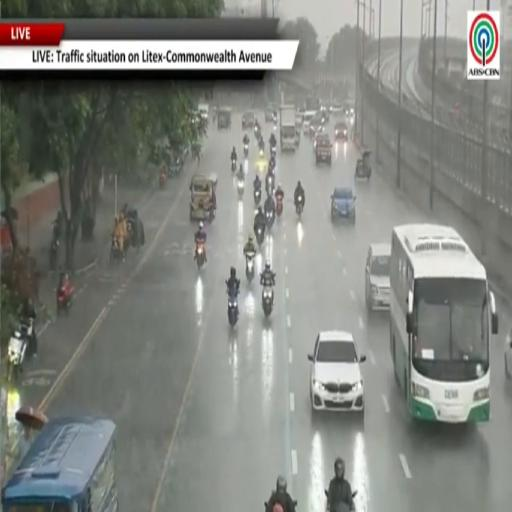bus: (390, 224, 498, 423), (2, 419, 118, 511)
car: (308, 331, 365, 412), (366, 244, 390, 311), (331, 187, 356, 223), (315, 135, 332, 165), (312, 126, 328, 151), (505, 328, 511, 379), (303, 111, 315, 136), (310, 117, 324, 138), (242, 111, 255, 130), (335, 122, 348, 140), (330, 104, 344, 116), (319, 106, 329, 122), (265, 108, 276, 122)
jeepney: (190, 174, 217, 220), (217, 107, 231, 130)
motorcycle: (8, 330, 28, 381), (56, 282, 74, 316), (228, 291, 238, 326), (262, 286, 273, 317), (49, 236, 59, 270), (110, 236, 123, 262), (246, 253, 255, 282), (195, 243, 205, 269), (236, 178, 245, 200), (265, 211, 275, 230), (255, 226, 264, 246), (266, 175, 274, 195), (333, 504, 354, 511), (296, 197, 303, 218), (159, 171, 167, 188), (276, 197, 282, 217), (254, 189, 261, 206), (258, 136, 264, 151), (254, 125, 260, 139), (270, 146, 276, 157), (232, 159, 237, 172), (244, 143, 248, 158), (264, 502, 269, 511)
tricycle: (355, 151, 371, 180)
truck: (280, 105, 296, 151)
